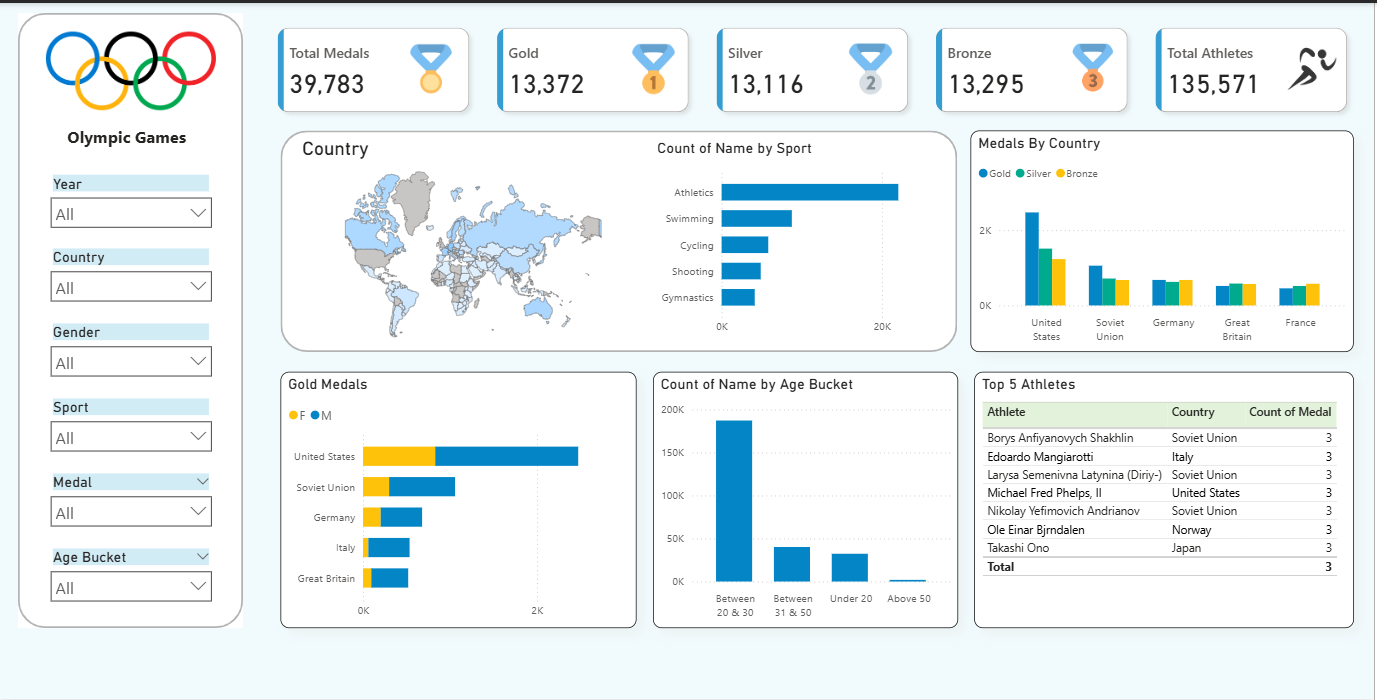

What the dashboard file says about the page in this screenshot:
{"tool":"powerbi","page":{"name":"Page 1","canvas":[1580,800],"ordinal":0},"visuals":[{"type":"shape","box":[324.3,145.7,777.1,254.3],"z":0},{"type":"cardVisual","fields":{"Data":["Measure_.Total Medals","Measure_.Gold","Measure_.Silver","Measure_.Bronze","Measure_.Total Athletes"]},"box":[305,11.7,1263.3,131.7],"z":1000},{"type":"shapeMap","title":"Country","fields":{"Category":["athlete.Team"],"Value":["athlete.Medal"]},"box":[344.3,155.7,402.9,244.3],"z":2000},{"type":"barChart","fields":{"Category":["athlete.Sport"],"Y":["athlete.Name"]},"box":[751.4,157.1,370,232.9],"z":3000},{"type":"clusteredColumnChart","title":"Medals By Country","fields":{"Category":["athlete.Team"],"Y":["Measure_.Gold","Measure_.Silver","Measure_.Bronze"]},"box":[1117.1,145.7,440,254.3],"z":4000},{"type":"barChart","title":"Gold Medals","fields":{"Y":["Measure_.Gold"],"Category":["athlete.Team"],"Series":["athlete.Sex"]},"box":[324.3,422.9,408.6,294.3],"z":5000},{"type":"columnChart","fields":{"Category":["athlete.Age Bucket"],"Y":["athlete.Name"]},"box":[751.4,422.9,350,294.3],"z":6000},{"type":"tableEx","title":"Top 5 Athletes","fields":{"Values":["athlete.Name","athlete.Team","athlete.Medal"]},"box":[1121.4,422.9,435.7,294.3],"z":7000},{"type":"shape","box":[23,11.5,258.4,706.2],"z":8000},{"type":"image","box":[50,0,205,156.7],"z":9000},{"type":"textbox","box":[75,136.7,155,40],"z":10000},{"type":"slicer","fields":{"Values":["athlete.Year"]},"box":[50,191.7,205,81.7],"z":11000},{"type":"slicer","fields":{"Values":["athlete.Team"]},"box":[50,277.7,205,81.7],"z":12000},{"type":"slicer","fields":{"Values":["athlete.Sex"]},"box":[50,363.7,205,81.7],"z":13000},{"type":"slicer","fields":{"Values":["athlete.Sport"]},"box":[50,449.7,205,81.7],"z":14000},{"type":"slicer","fields":{"Values":["athlete.Medal"]},"box":[50,535.7,205,81.7],"z":15000},{"type":"slicer","fields":{"Values":["athlete.Age Bucket"]},"box":[50,621.7,205,81.7],"z":16000}]}

Visuals, with their boxes in screenshot pixels (x1, y1, x2, y2), scaled from the page's 1580x800 canvas onto the 1377x700 screenshot:
shape: left=283, top=127, right=960, bottom=350
cardVisual - Measure_.Total Medals x Measure_.Gold: left=266, top=10, right=1367, bottom=125
"Country" shapeMap: left=300, top=136, right=651, bottom=350
barChart - athlete.Sport x athlete.Name: left=655, top=137, right=977, bottom=341
"Medals By Country" clusteredColumnChart: left=974, top=127, right=1357, bottom=350
"Gold Medals" barChart: left=283, top=370, right=639, bottom=628
columnChart - athlete.Age Bucket x athlete.Name: left=655, top=370, right=960, bottom=628
"Top 5 Athletes" tableEx: left=977, top=370, right=1357, bottom=628
shape: left=20, top=10, right=245, bottom=628
image: left=44, top=0, right=222, bottom=137
textbox: left=65, top=120, right=200, bottom=155
slicer - athlete.Year: left=44, top=168, right=222, bottom=239
slicer - athlete.Team: left=44, top=243, right=222, bottom=314
slicer - athlete.Sex: left=44, top=318, right=222, bottom=390
slicer - athlete.Sport: left=44, top=393, right=222, bottom=465
slicer - athlete.Medal: left=44, top=469, right=222, bottom=540
slicer - athlete.Age Bucket: left=44, top=544, right=222, bottom=615
